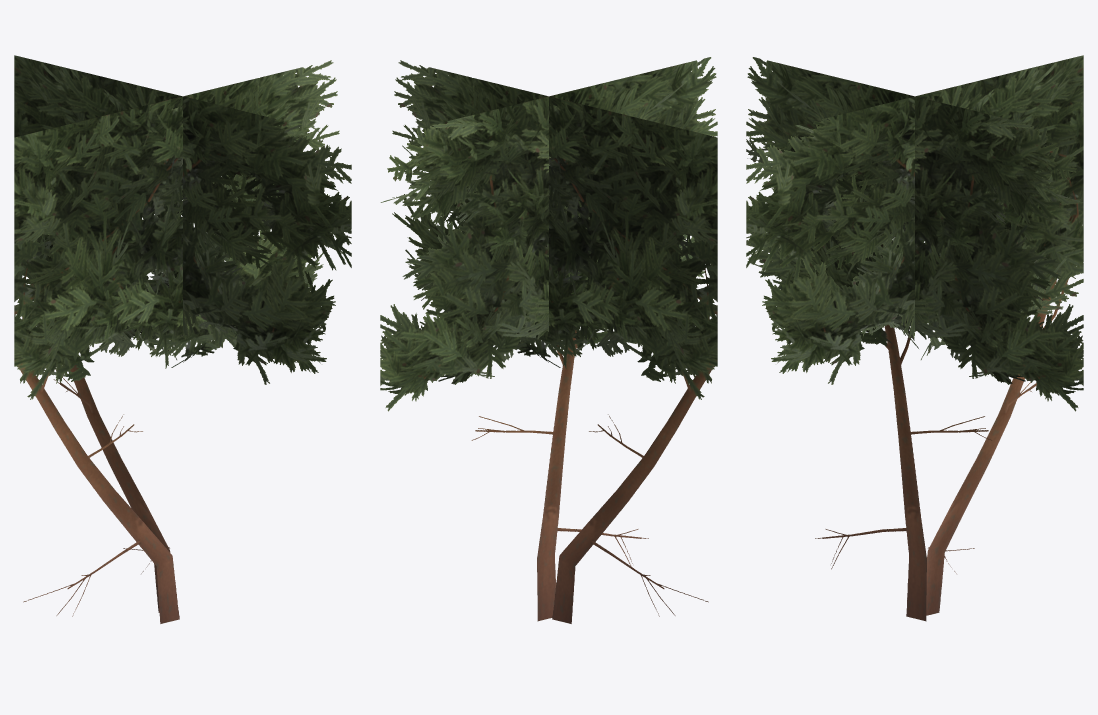
File: borovice_stredni_daleko.glb
The picture shows the model from 3 angles, left to right: view 1: azimuth 30°, elevation 25°; view 2: azimuth 150°, elevation 25°; view 3: azimuth 270°, elevation 25°; orthographic projection.
Visible parts, largest first — view 1: borovice_stredni_daleko; view 2: borovice_stredni_daleko; view 3: borovice_stredni_daleko.
Boxes of the visible parts, x1,y1,x2,y2 form: borovice_stredni_daleko: [14, 55, 351, 623]; borovice_stredni_daleko: [380, 57, 717, 623]; borovice_stredni_daleko: [746, 55, 1083, 621].
Size of the model in its own units: 8.92 by 13.18 by 7.72.
Materials: 3 (3 with a texture image).
